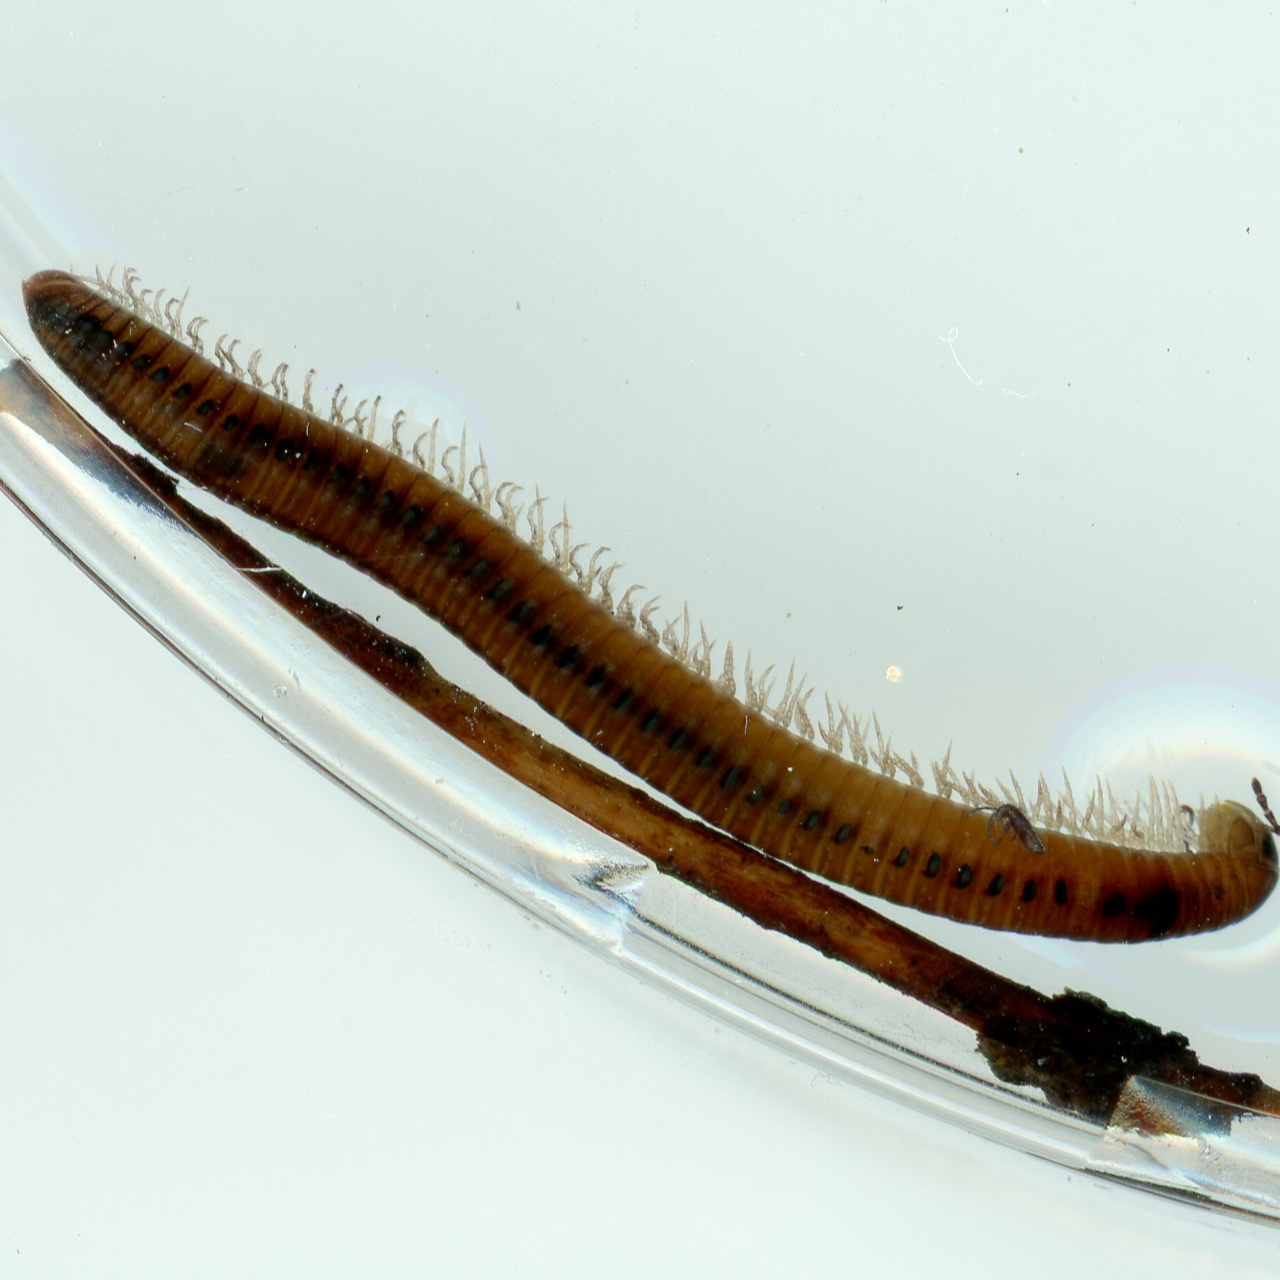arthropod: (0, 97, 1280, 1121), (946, 757, 1067, 891)
